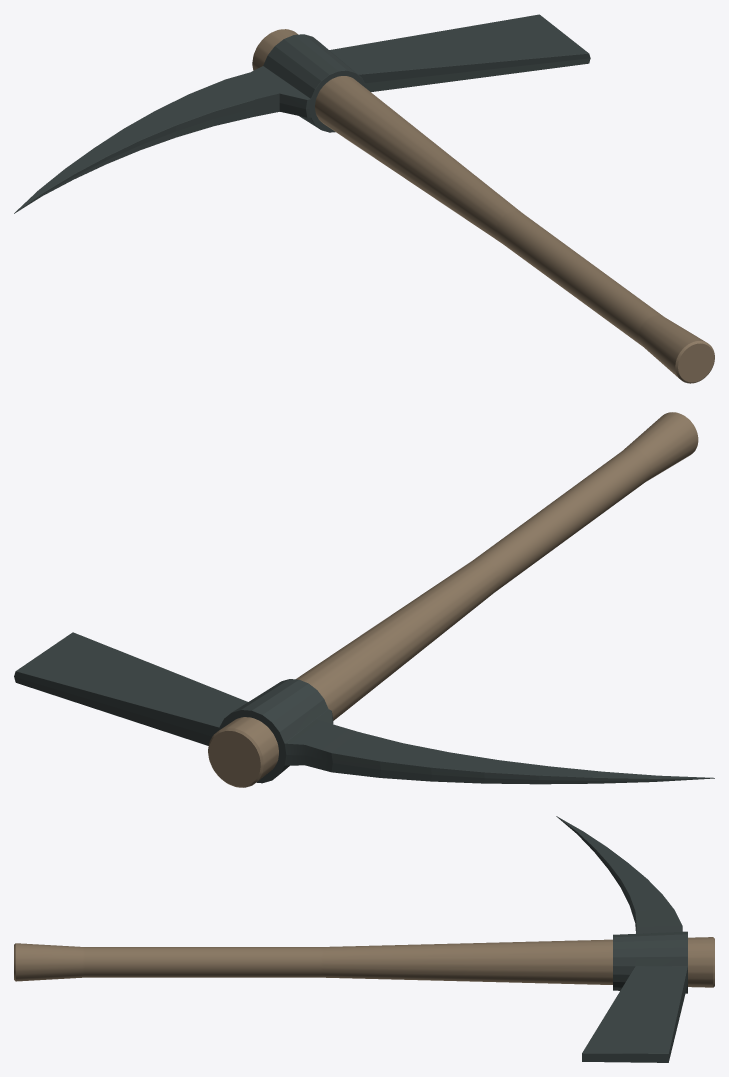
File: Pickaxe.fbx
3 views of the same model, one above another, from view 1: azimuth 30°, elevation 25°; view 2: azimuth 150°, elevation 25°; view 3: azimuth 270°, elevation 25° (orthographic). The views are drawn at different scales.
Parts seen in each view (by area): view 1: polySurface2; view 2: polySurface2; view 3: polySurface2.
Boxes of the visible parts, x1,y1,x2,y2 form: polySurface2: (14,14,714,383); polySurface2: (14,412,714,787); polySurface2: (14,816,714,1062).
Bounding box in the file's own units: 66.9 × 7.3 × 81.6.
